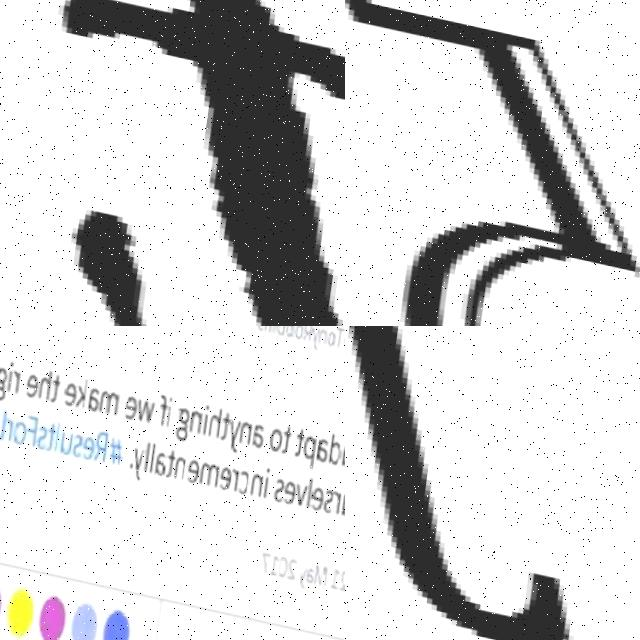0: (275, 544, 288, 570)
1: (268, 543, 279, 569), (330, 557, 339, 583)
2: (284, 546, 297, 572), (336, 559, 345, 580)
5: (345, 0, 640, 326)
7: (258, 541, 271, 567)
J: (345, 326, 640, 640)
T: (0, 0, 345, 326)
